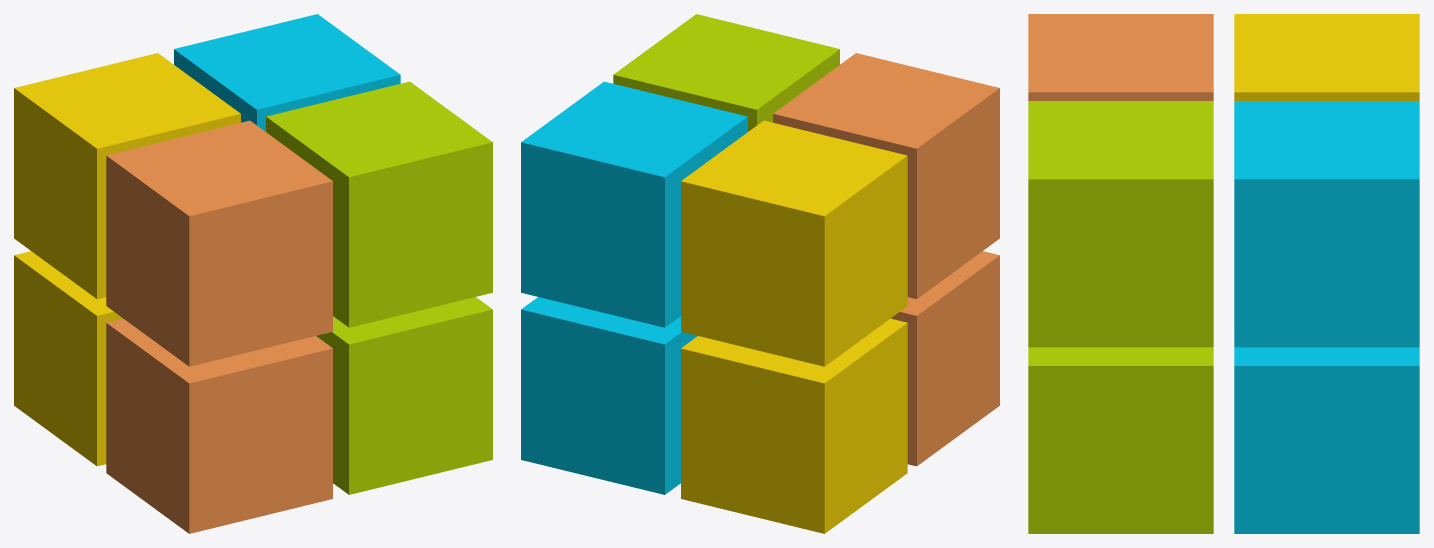
Rendered from mic-website-hero.glb.
3 views of the same model, side by side, from view 1: azimuth 30°, elevation 25°; view 2: azimuth 150°, elevation 25°; view 3: azimuth 270°, elevation 25° (orthographic). The views are drawn at different scales.
Parts seen in each view (by area): view 1: MicrosoftCube_5, MicrosoftCube_1, MicrosoftCube_6, MicrosoftCube_7, MicrosoftCube_2, MicrosoftCube_3, MicrosoftCube_8; view 2: MicrosoftCube_7, MicrosoftCube_3, MicrosoftCube_8, MicrosoftCube_5, MicrosoftCube_4, MicrosoftCube_1, MicrosoftCube_6; view 3: MicrosoftCube_6, MicrosoftCube_8, MicrosoftCube_2, MicrosoftCube_4, MicrosoftCube_5, MicrosoftCube_7.
Boxes of the visible parts, bbox=[...] form: MicrosoftCube_5: bbox=[106, 120, 332, 366]; MicrosoftCube_1: bbox=[106, 318, 332, 533]; MicrosoftCube_6: bbox=[266, 81, 492, 327]; MicrosoftCube_7: bbox=[14, 53, 240, 299]; MicrosoftCube_2: bbox=[316, 297, 492, 494]; MicrosoftCube_3: bbox=[14, 251, 122, 466]; MicrosoftCube_8: bbox=[174, 14, 400, 131]; MicrosoftCube_7: bbox=[681, 120, 907, 366]; MicrosoftCube_3: bbox=[681, 318, 907, 533]; MicrosoftCube_8: bbox=[521, 81, 747, 327]; MicrosoftCube_5: bbox=[773, 53, 999, 299]; MicrosoftCube_4: bbox=[521, 297, 697, 494]; MicrosoftCube_1: bbox=[891, 251, 999, 466]; MicrosoftCube_6: bbox=[613, 14, 839, 131]; MicrosoftCube_6: bbox=[1028, 101, 1213, 347]; MicrosoftCube_8: bbox=[1234, 101, 1419, 347]; MicrosoftCube_2: bbox=[1028, 347, 1213, 533]; MicrosoftCube_4: bbox=[1234, 347, 1419, 533]; MicrosoftCube_5: bbox=[1028, 14, 1213, 100]; MicrosoftCube_7: bbox=[1234, 14, 1419, 100].
Size of the model in its own units: 3.8 by 3.8 by 3.8.
